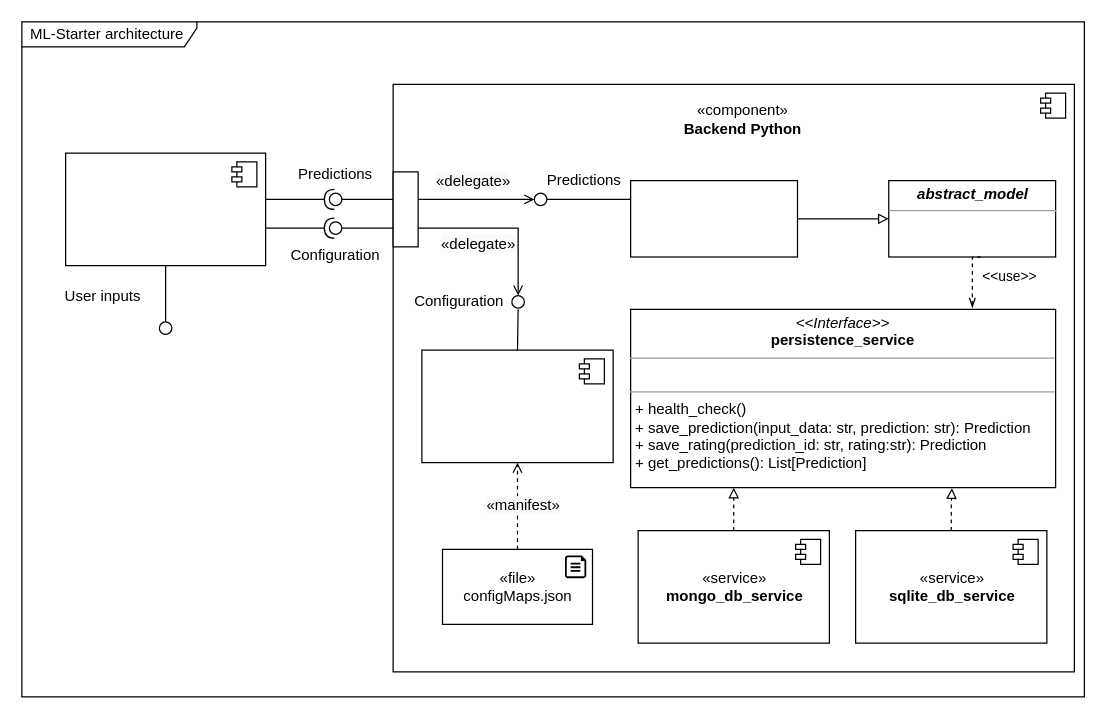
The diagram is 1106 pixels wide and 719 high, and some of its shapes have lost their labels. Each missing label, with the centre of its shape:
"custom_model" belongs at (713,218).
"«component» Frontend React" belongs at (165,209).
"«service» configuration_service" belongs at (517,406).
